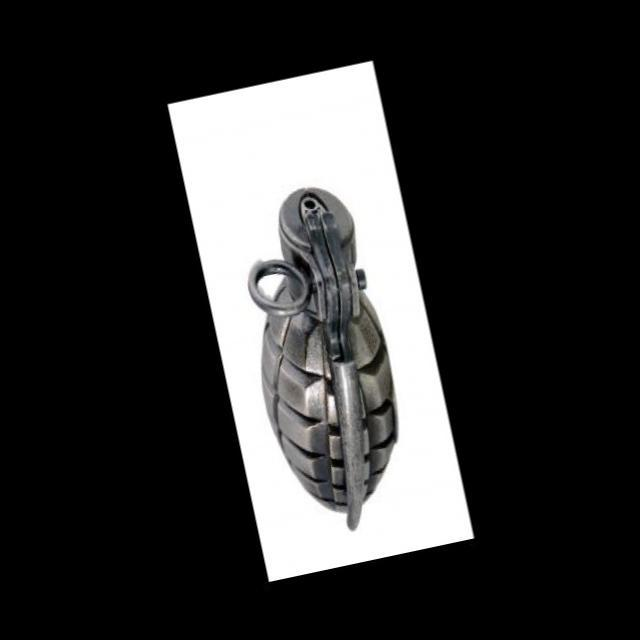grenade: (214, 163, 426, 557)
